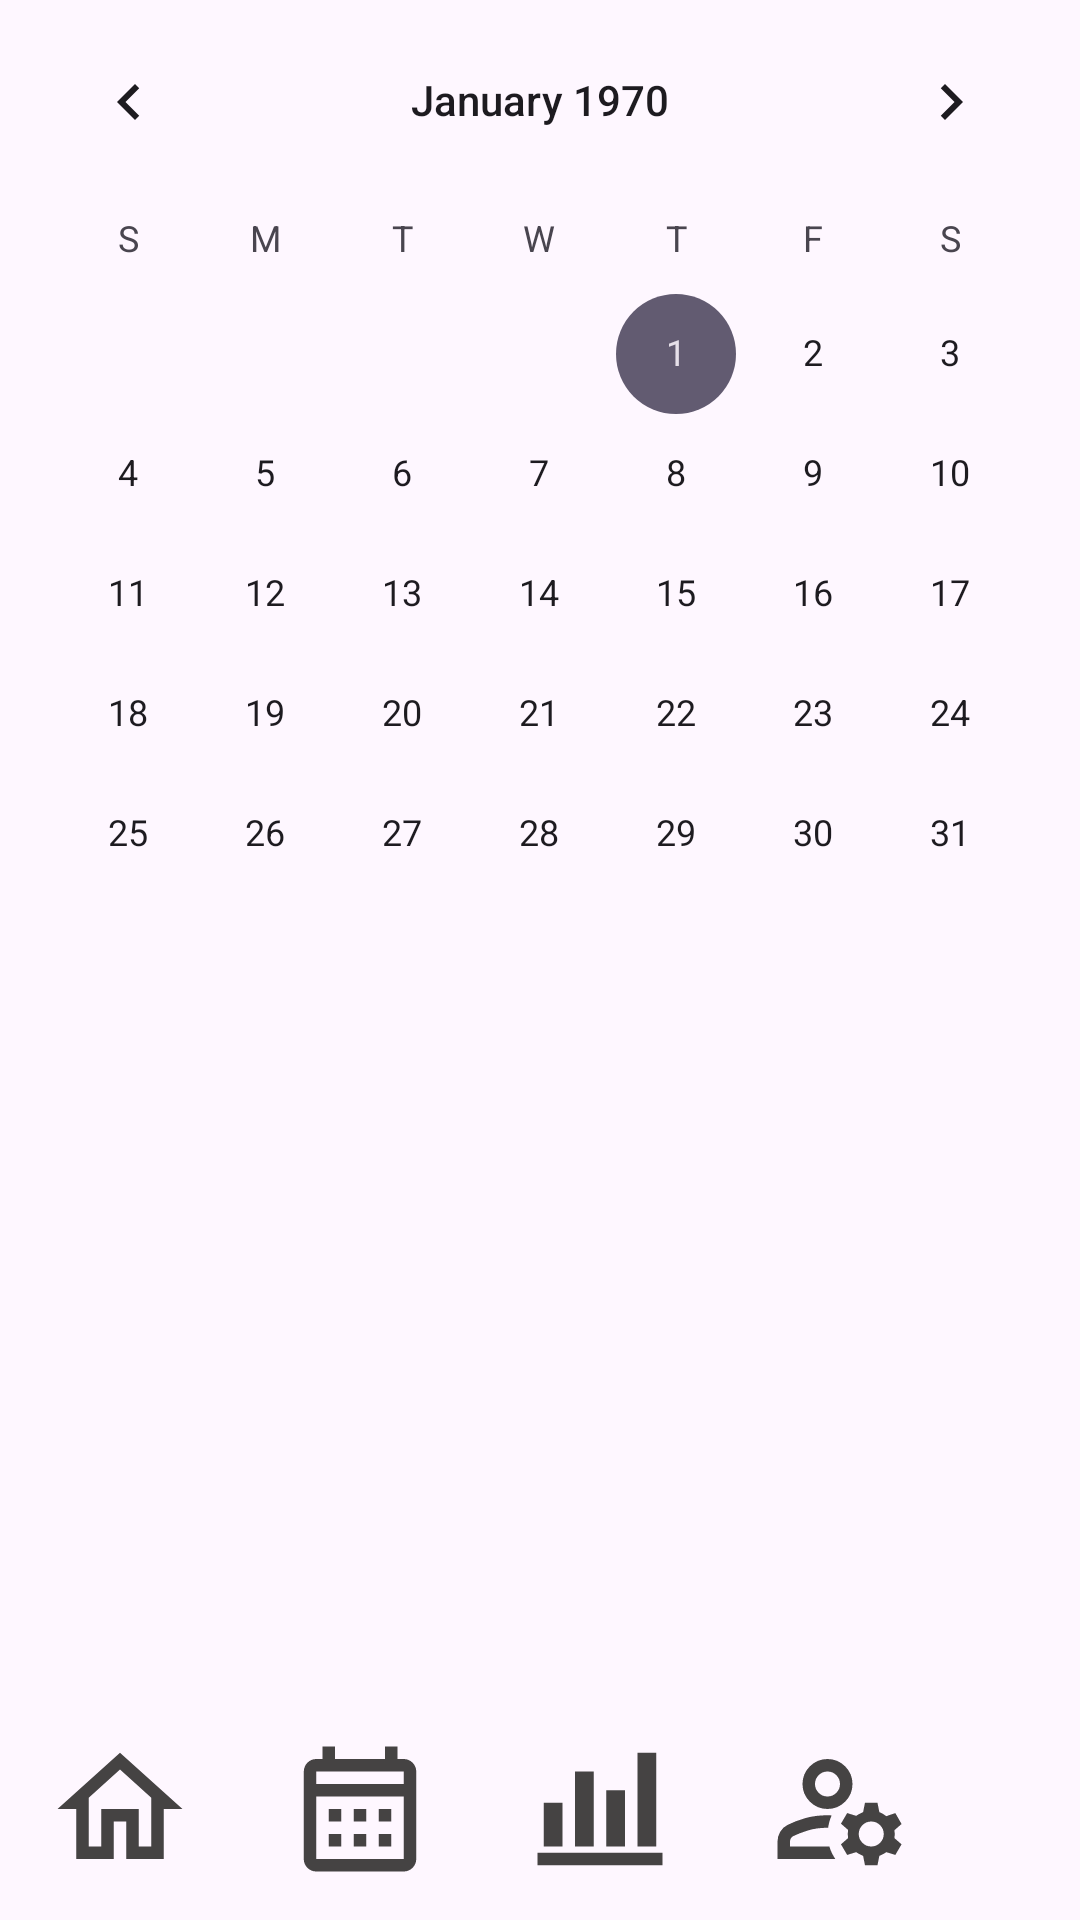

Locate icon controls on the screen. Image size 1080×1920, boxes as (x1, y1, x2, y2).
bar chart bars: (537, 1752, 663, 1866)
calendar month: (303, 1746, 417, 1872)
home: (58, 1753, 182, 1859)
manage accounts: (777, 1759, 902, 1866)
